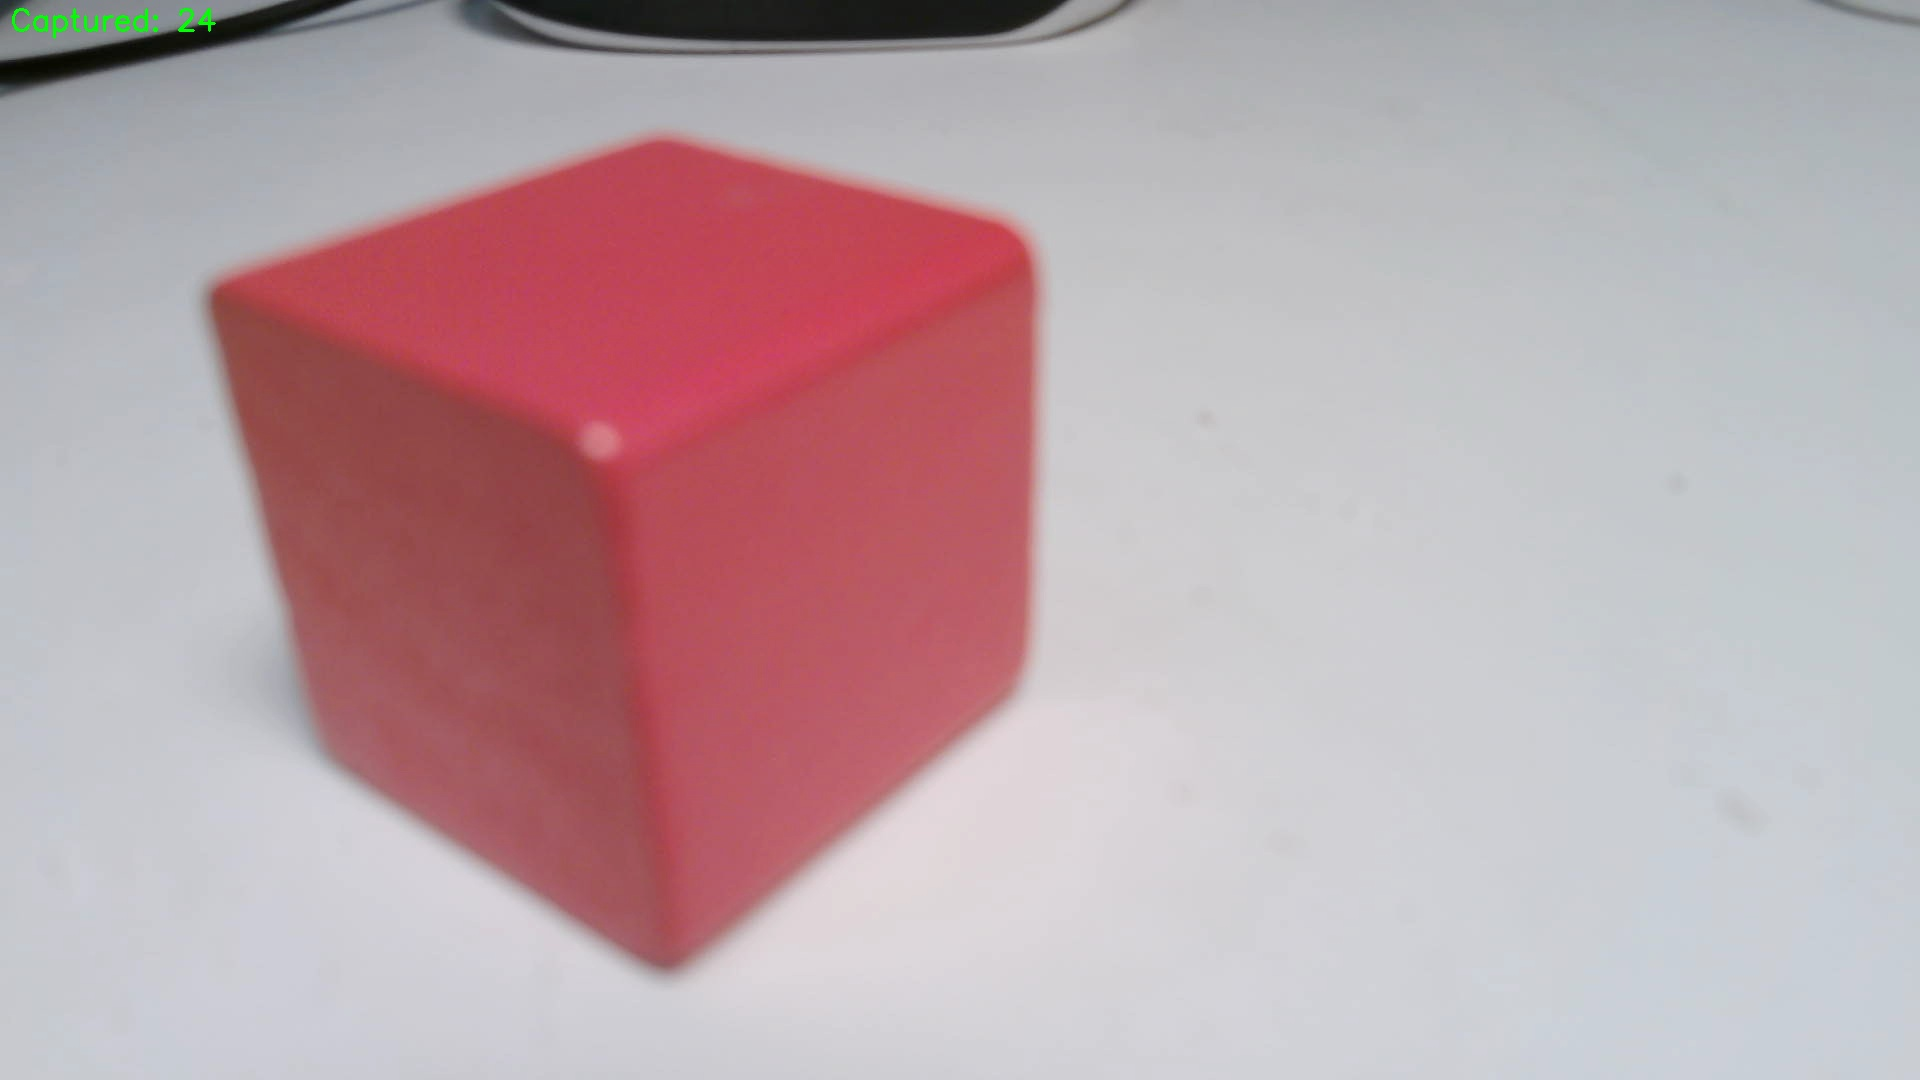red: (202, 137, 1040, 959)
